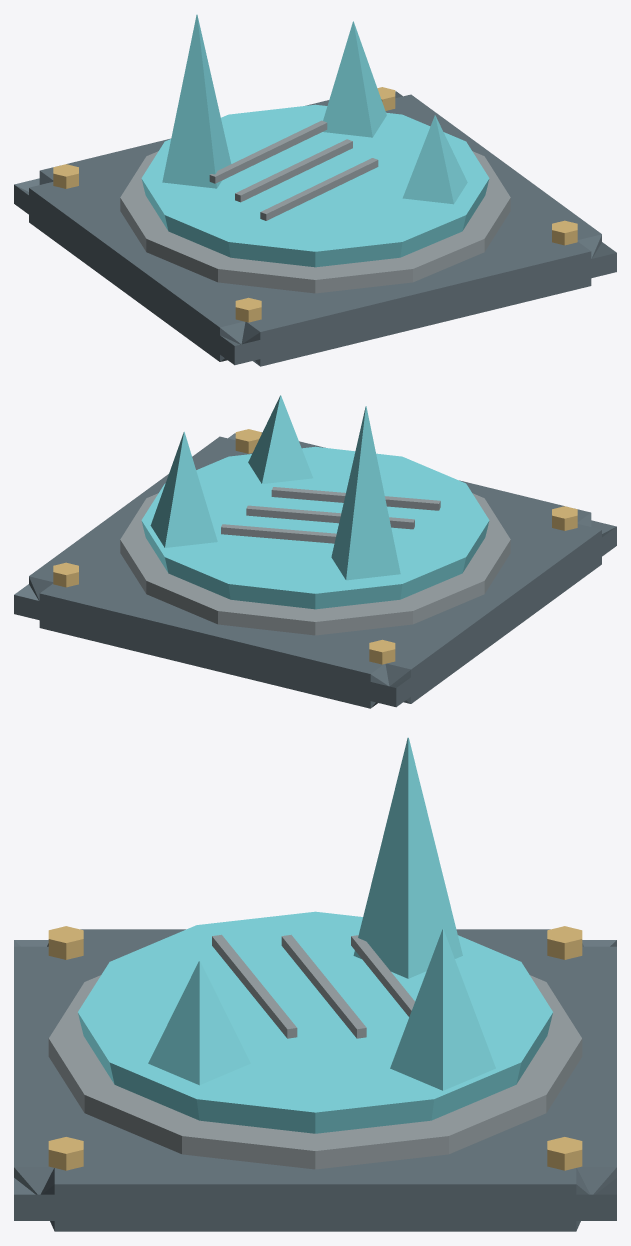
Rendered from TrapIceSlick.fbx.
3 renders of one model, top to bottom at view 1: azimuth 30°, elevation 25°; view 2: azimuth 150°, elevation 25°; view 3: azimuth 270°, elevation 25°, orthographic. The views are drawn at different scales.
Visible parts, largest first — view 1: TrapIceSlick.002; view 2: TrapIceSlick.002; view 3: TrapIceSlick.002.
Boxes of the visible parts, left/top/right/bottom form: TrapIceSlick.002: left=14, top=14, right=616, bottom=366; TrapIceSlick.002: left=14, top=395, right=616, bottom=708; TrapIceSlick.002: left=14, top=737, right=616, bottom=1231.
Bounding box in the file's own units: 1.04 × 0.59 × 1.04.
